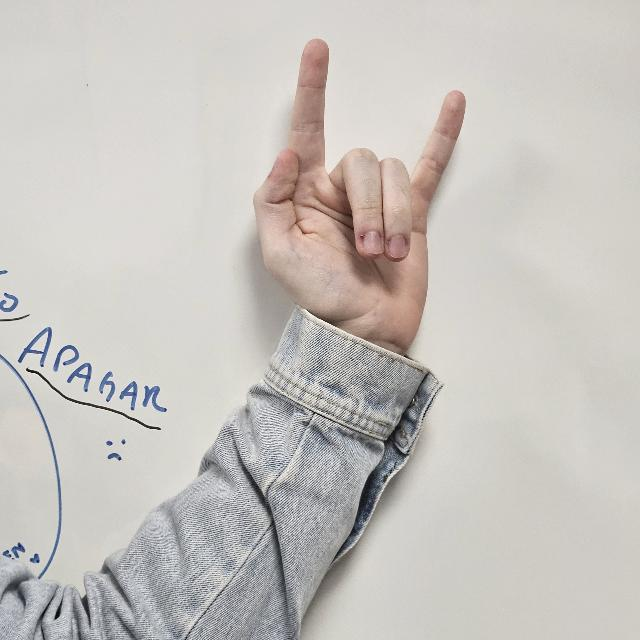L: (255, 40, 467, 380)
